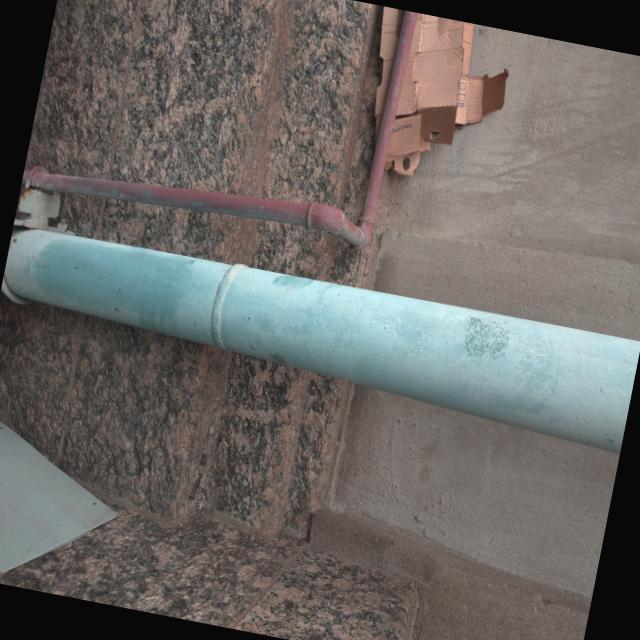gas: (0, 216, 639, 445), (21, 14, 417, 257)
